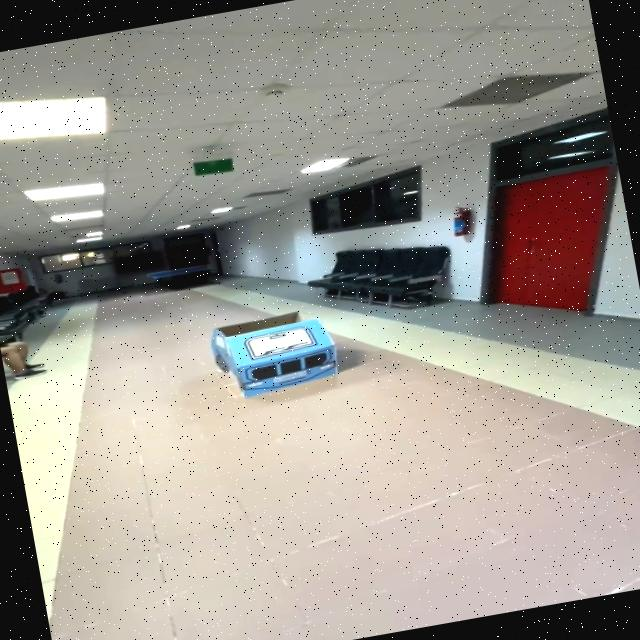blue_car: (196, 294, 361, 413)
